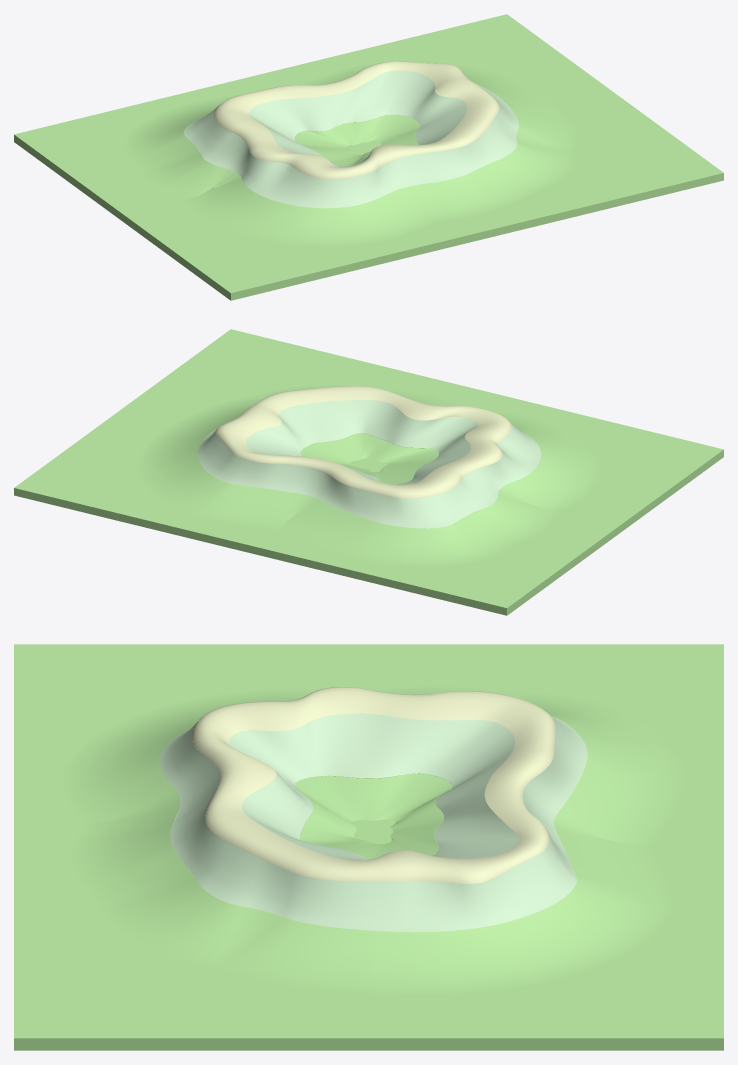
The picture shows the model from 3 angles, top to bottom: view 1: azimuth 30°, elevation 25°; view 2: azimuth 150°, elevation 25°; view 3: azimuth 270°, elevation 25°; orthographic projection. The views are drawn at different scales.
Parts seen in each view (by area): view 1: 物件_3, 物件_1, 物件_2; view 2: 物件_3, 物件_1, 物件_2; view 3: 物件_3, 物件_1, 物件_2.
Boxes of the visible parts, x1=… form: 物件_3: x1=14, y1=14, x2=723, y2=300; 物件_1: x1=184, y1=70, x2=518, y2=208; 物件_2: x1=214, y1=61, x2=499, y2=179; 物件_3: x1=14, y1=329, x2=723, y2=615; 物件_1: x1=197, y1=400, x2=541, y2=528; 物件_2: x1=215, y1=386, x2=511, y2=498; 物件_3: x1=14, y1=644, x2=723, y2=1050; 物件_1: x1=159, y1=713, x2=587, y2=932; 物件_2: x1=192, y1=687, x2=555, y2=884.
Bounding box in the file's own units: 4.91 × 0.4448 × 3.74.
